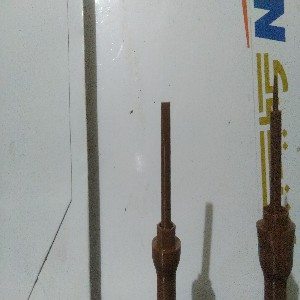obeng: (151, 100, 182, 300)
solder: (255, 73, 297, 300)
